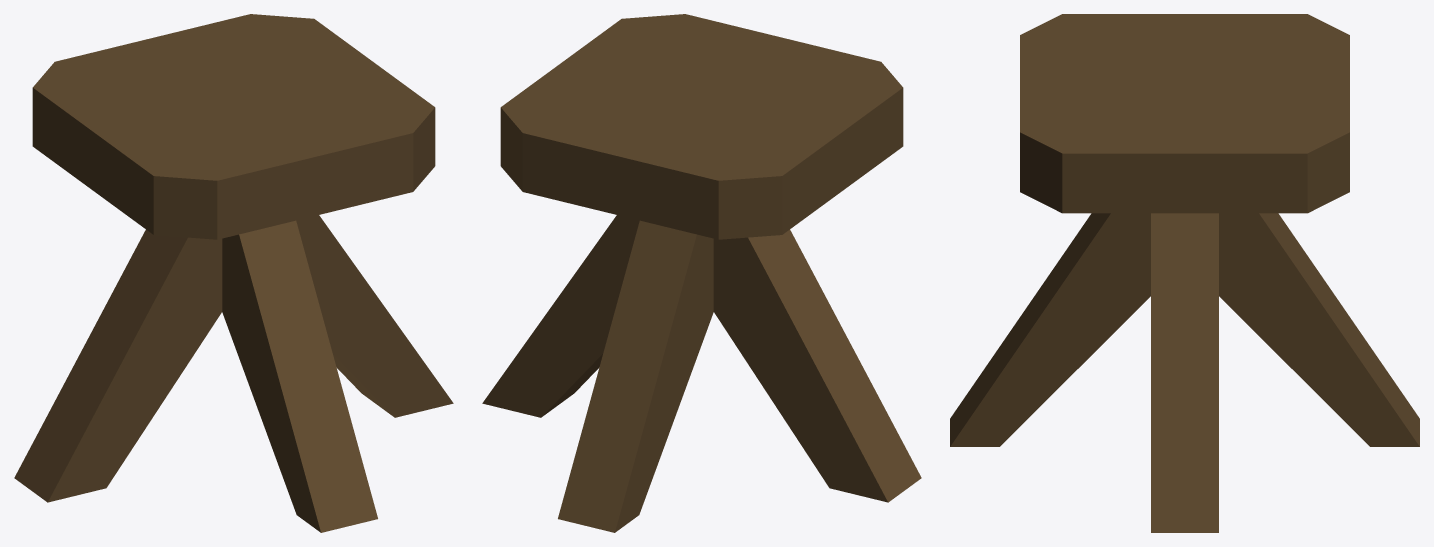
Rendered from stool.fbx.
The picture shows the model from 3 angles, left to right: view 1: azimuth 30°, elevation 25°; view 2: azimuth 150°, elevation 25°; view 3: azimuth 270°, elevation 25°; orthographic projection.
Visible parts, largest first — view 1: stool; view 2: stool; view 3: stool.
Boxes of the visible parts, x1,y1,x2,y2 form: stool: (14,14,453,532); stool: (482,14,921,532); stool: (950,14,1419,532).
Size of the model in its own units: 115 by 93.33 by 114.
